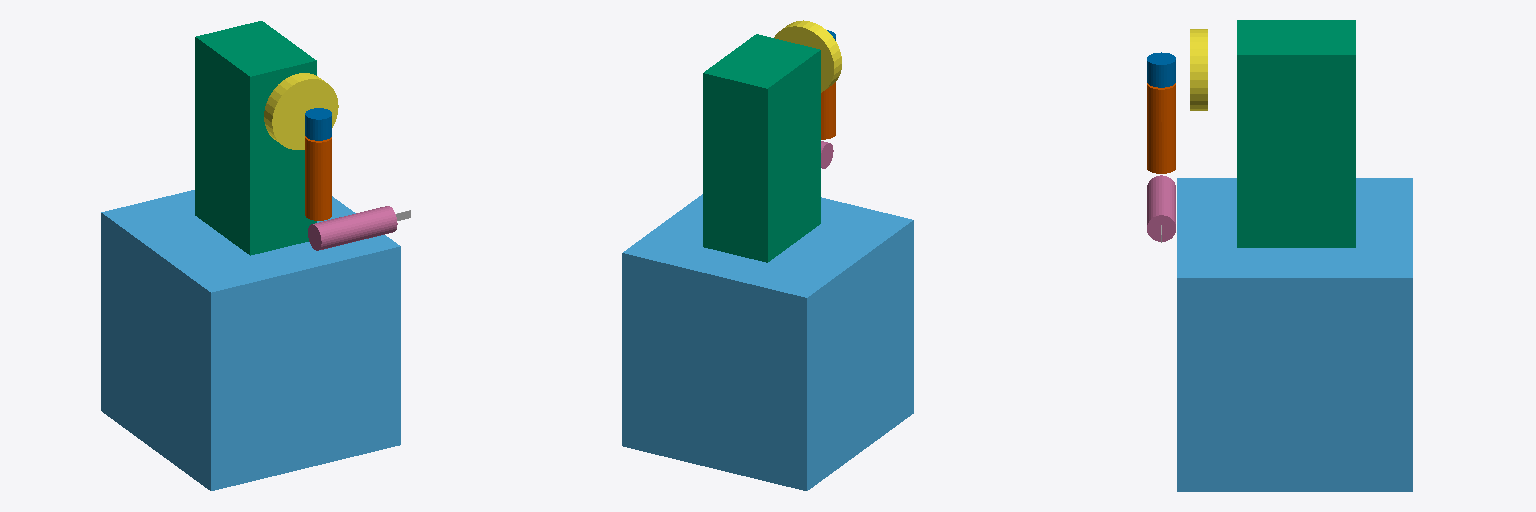
URDF robot description (pluto):
<?xml version="1.0" ?>
<!-- =================================================================================== -->
<!-- |    This document was autogenerated by xacro from pluto.xacro                    | -->
<!-- |    EDITING THIS FILE BY HAND IS NOT RECOMMENDED                                 | -->
<!-- =================================================================================== -->
<robot name="pluto">
  <link name="base_footprint">
    <inertial>
      <mass value="10"/>
      <inertia ixx="1.6666666666666667e-06" ixy="0.0" ixz="0.0" iyy="1.6666666666666667e-06" iyz="0.0" izz="1.6666666666666667e-06"/>
    </inertial>
    <visual>
      <origin rpy="0 0 0" xyz="0 0 0"/>
      <geometry>
        <box size="0.001 0.001 0.001"/>
      </geometry>
    </visual>
  </link>
  
  <link name="base_link">
    <inertial>
      <mass value="50"/>
      <inertia ixx="2.1505333333333336" ixy="0.0" ixz="0.0" iyy="2.1505333333333336" iyz="0.0" izz="2.1505333333333336"/>
    </inertial>
    <visual>
      <origin rpy="0 0 0" xyz="-0.015 -0.00275 0"/>
      <geometry>
        <box size=".508 .508 .508"/>
      </geometry>
    </visual>
    <collision>
      <origin rpy="0 0 0" xyz="-0.015 -0.00275 0"/>
      <geometry>
        <box size=".508 .508 .508"/>
      </geometry>
    </collision>
  </link>
  <joint name="base_link_joint" type="fixed">
    <origin rpy="0 0 0" xyz="0 0 0"/>
    <parent link="base_footprint"/>
    <child link="base_link"/>
  </joint>
  
  <link name="torso">
    <inertial>
      <mass value="20"/>
      <inertia ixx="0.4010744666666667" ixy="0.0" ixz="0.0" iyy="0.45591306666666664" iyz="0.0" izz="0.16021473333333336"/>
    </inertial>
    <visual>
      <origin rpy="0 0 0" xyz="0 0 0.4826"/>
      <geometry>
        <box size="0.1778 0.254 0.4572"/>
      </geometry>
    </visual>
    <collision>
      <origin rpy="0 0 0" xyz="0 0 0.4826"/>
      <geometry>
        <box size="0.1778 0.254 0.4572"/>
      </geometry>
    </collision>
  </link>
  <joint name="torso_joint" type="revolute">
    <origin rpy="0 0 0" xyz="0 0 0"/>
    <axis rpy="0 0 0" xyz="0 0 1"/>
    <parent link="base_link"/>
    <child link="torso"/>
    <origin rpy="-0 0 0" xyz="0.0 0.0 0.0"/>
    <limit effort="1.0" lower="0" upper="3.14159" velocity="1.0"/>
  </joint>
  
  <link name="right_shoulder">
    <visual>
      <origin rpy="0 0 0" xyz="0 0 0"/>
      <geometry>
        <cylinder length="0.0381" radius="0.0889" />
      </geometry>
    </visual>
    <collision>
      <origin rpy="0 0 0" xyz="0 0 0"/>
      <geometry>
        <cylinder length="0.0381" radius="0.0889" />
      </geometry>
      <surface>
        <friction>
          <ode>
            <mu>0.01</mu>
            <mu2>0.01</mu2>
          </ode>
        </friction>
      </surface>
    </collision>
    <inertial>
      <mass value="3"/>
      <inertia ixx="0.0030645100000000008" ixy="0" ixz="0" iyy="0.0030645100000000008" iyz="0" izz="0.0021774150000000003"/>
    </inertial>
  </link>
  <joint name="right_shoulder_joint" type="revolute">
    <axis rpy="0 0 0" xyz="0 0 1"/>
    <parent link="torso"/>
    <child link="right_shoulder"/>
    <!--origin rpy="0 0 0" xyz="0 -0.055 0.372"/-->
    <origin rpy="-1.57 0 0" xyz="0.0 -0.20955 0.635"/>
    <limit effort="1.0" lower="0" upper="6.28318" velocity="1.0"/>
  </joint>
  
  <link name="right_upper_arm_bottom">
    <visual>
      <origin rpy="0 0 0" xyz="0 0 0"/>
      <geometry>
        <cylinder length="0.054" radius="0.03175"/>
      </geometry>
    </visual>
    <collision>
      <origin rpy="0 0 0" xyz="0 0 0"/>
      <geometry>
        <cylinder length="0.054" radius="0.03175"/>
      </geometry>
    </collision>
    <inertial>
      <mass value="0.5"/>
      <inertia ixx="0.002814174479166667" ixy="0" ixz="0" iyy="0.002814174479166667" iyz="0" izz="0.000252015625"/>
    </inertial>
  </link>
  <joint name="right_upper_arm_bottom_joint" type="revolute">
    <axis rpy="0 0 0" xyz="0 1 0"/>
    <parent link="right_shoulder"/>
    <child link="right_upper_arm_bottom"/>
    <!--origin rpy="0 0 0" xyz="0 -0.0225 0"/-->
    <origin rpy="1.5707963267948966 0 0" xyz="0 -0.0 -0.081"/>
    <limit effort="1.0" lower="0" upper="3.14159" velocity="1.0"/>
  </joint>
  
  <link name="right_upper_arm_top">
    <visual>
      <origin rpy="0 0 0" xyz="0 0 0"/>
      <geometry>
        <cylinder length="0.2" radius="0.03175"/>
      </geometry>
    </visual>
    <collision>
      <origin rpy="0 0 0" xyz="0 0 0"/>
      <geometry>
        <cylinder length="0.2" radius="0.03175"/>
      </geometry>
    </collision>
    <inertial>
      <mass value="4"/>
      <inertia ixx="0.022513395833333335" ixy="0" ixz="0" iyy="0.022513395833333335" iyz="0" izz="0.002016125"/>
    </inertial>
  </link>
  <joint name="right_upper_arm_top_joint" type="revolute">
    <axis rpy="0 0 0" xyz="0 0 1"/>
    <parent link="right_upper_arm_bottom"/>
    <child link="right_upper_arm_top"/>
    <origin rpy="0 0 0" xyz="0 0 -0.13175"/>
    <limit effort="1.0" lower="0" upper="6.28318" velocity="1.0"/>
  </joint>
  
  <link name="right_forearm_bottom">
    <visual>
      <origin rpy="0 0 0" xyz="0 0 0"/>
      <geometry>
        <cylinder length="0.2032" radius="0.03175"/>
      </geometry>
    </visual>
    <collision>
      <origin rpy="0 0 0" xyz="0 0 0"/>
      <geometry>
        <cylinder length="0.2032" radius="0.03175"/>
      </geometry>
    </collision>
    <inertial>
      <mass value="0.5"/>
      <inertia ixx="0.0005561144791666667" ixy="0" ixz="0" iyy="0.0005561144791666667" iyz="0" izz="0.000252015625"/>
    </inertial>
  </link>
  <joint name="right_forearm_bottom_joint" type="revolute">
    <axis rpy="0 0 0" xyz="0 1 0"/>
    <parent link="right_upper_arm_top"/>
    <child link="right_forearm_bottom"/>
    <origin rpy="0 -1.5707963267948966 0" xyz="0.0908 0 -0.155"/>
    <limit effort="1.0" lower="0" upper="3.14159" velocity="1.0"/>
    <dyanamics damping="10.0" friction="10.0"/>
  </joint>
  <!-- 0 1.5707963267948966 0 -->
 <link name="right_palm">
    <inertial>
      <mass value="0.2"/>
      <inertia ixx="0.000419354" ixy="0.0" ixz="0.0" iyy="0.00080645" iyz="0.0" izz="0.000419354"/>
    </inertial>
    <visual>
      <origin rpy="0 0 0" xyz="0 0 0"/>
      <geometry>
        <box size="0.05 0.02 0.001"/>
      </geometry>
    </visual>
    <collision>
      <origin rpy="0 0 0" xyz="0 0 0"/>
      <geometry>
        <box size="0.05 0.03 0.01"/>
      </geometry>
    </collision>
  </link>
  <joint name="right_palm_joint" type="revolute">
    <origin rpy="0 1.5707963267948966 1.5707963267948966" xyz="-0.0 -0.0 -0.13"/>
    <axis rpy="0 0 0" xyz="1 0 0"/>
    <parent link="right_forearm_bottom"/>
    <child link="right_palm"/>
    <limit effort="1.0" lower="0" upper="3.14159" velocity="1.0"/>
  </joint>
</robot>

--- Render facts (derived) ---
The picture shows the robot from 3 angles, left to right: view 1: azimuth 30°, elevation 25°; view 2: azimuth 150°, elevation 25°; view 3: azimuth 270°, elevation 25°; orthographic projection.
Model pluto with 8 links and 7 joints (6 revolute, 1 fixed), rooted at base_footprint, posed all joints at 0.
Links seen in each view (by area): view 1: base_link, torso, right_shoulder, right_forearm_bottom, right_upper_arm_top, right_upper_arm_bottom; view 2: base_link, torso, right_shoulder, right_upper_arm_top; view 3: base_link, torso, right_upper_arm_top, right_forearm_bottom, right_shoulder, right_upper_arm_bottom.
Link boxes in pixels (box(x1,y1,x2,y2)): base_link: box(101, 190, 400, 490); torso: box(195, 21, 316, 255); right_shoulder: box(264, 73, 338, 149); right_forearm_bottom: box(308, 206, 397, 250); right_upper_arm_top: box(305, 136, 331, 220); right_upper_arm_bottom: box(305, 108, 331, 140); base_link: box(622, 194, 913, 490); torso: box(703, 34, 820, 262); right_shoulder: box(774, 20, 841, 92); right_upper_arm_top: box(821, 82, 835, 139); base_link: box(1177, 178, 1412, 491); torso: box(1237, 20, 1355, 247); right_upper_arm_top: box(1147, 83, 1175, 173); right_forearm_bottom: box(1147, 175, 1175, 241); right_shoulder: box(1190, 29, 1207, 110); right_upper_arm_bottom: box(1147, 52, 1175, 87).
Bounding box of the posed robot: 0.5148 × 0.5736 × 0.9779 m (x, y, z).
Geometry: primitives only (box / cylinder / sphere), no mesh files.
